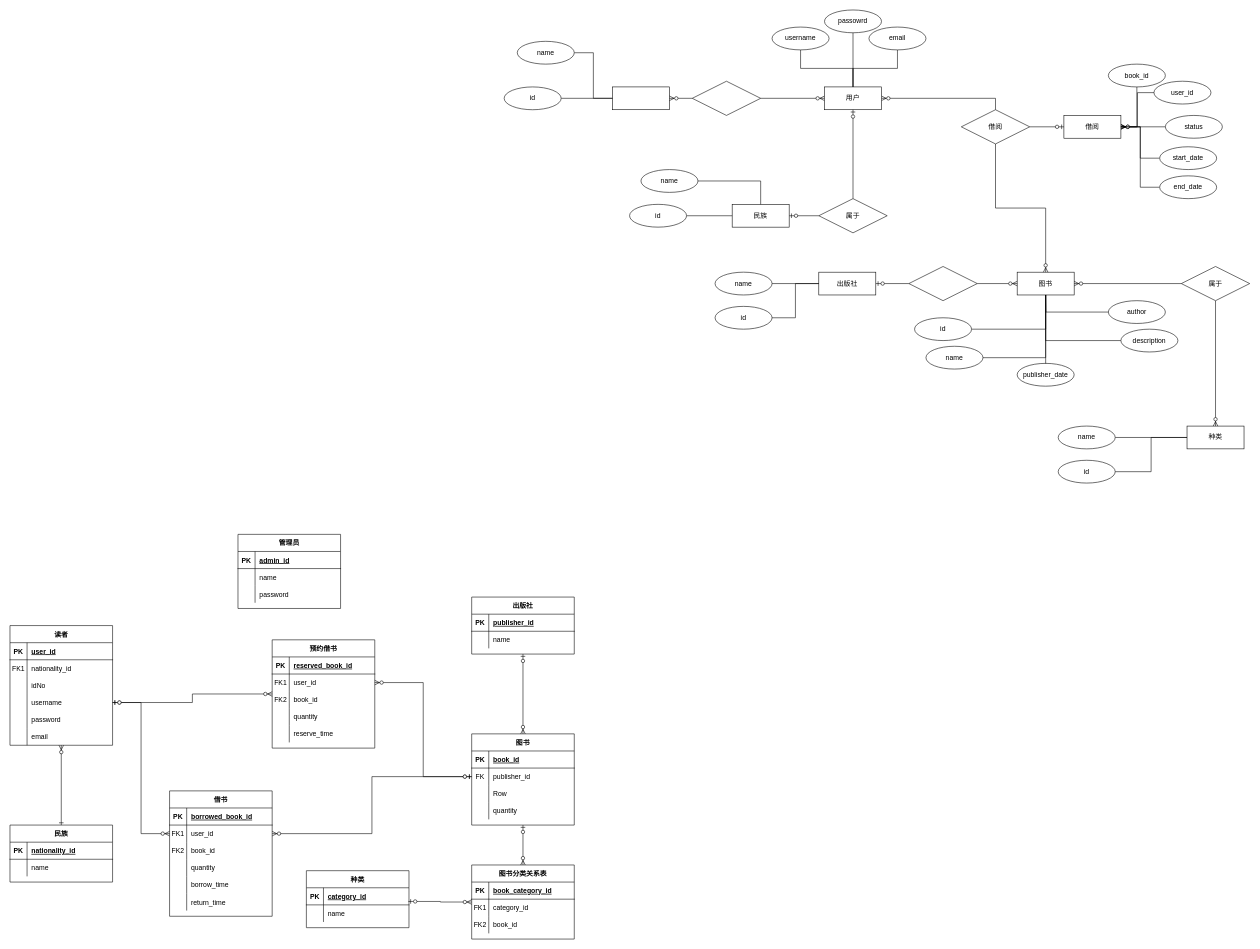
Image size: 1260x949. Some labels were removed from this diagram. Each missing label, with the centre of its shape:
"出版" belongs at (942,283).
"拥有" belongs at (726,98).
"角色" belongs at (640,98).
